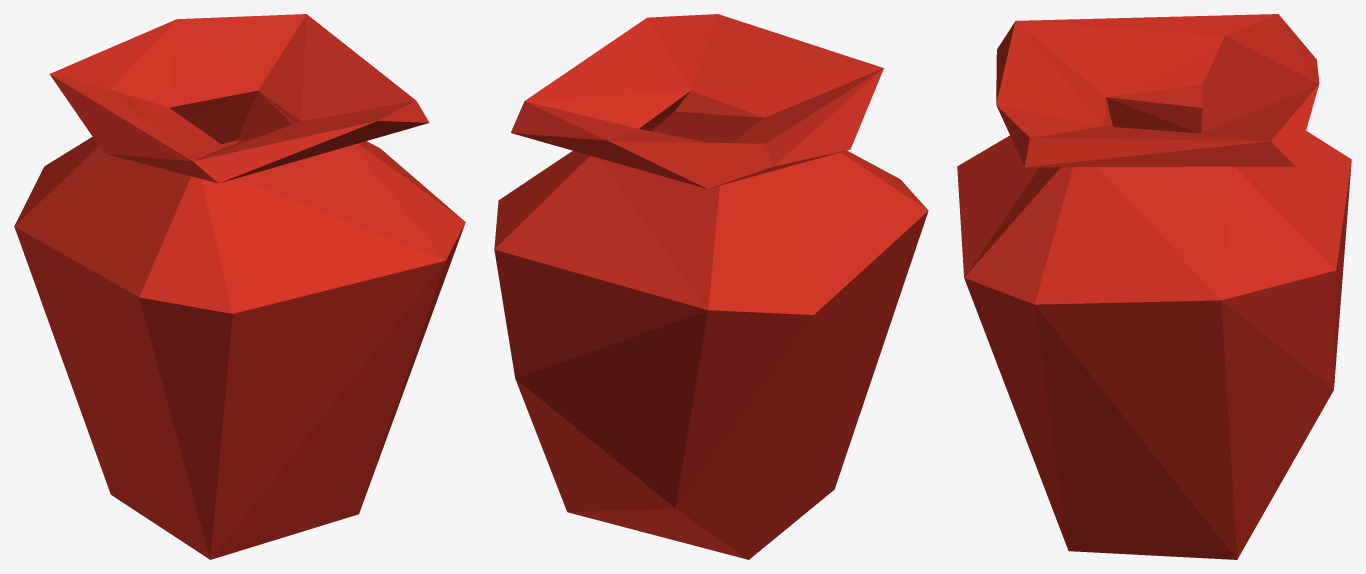
File: VaseRed.fbx
The picture shows the model from 3 angles, left to right: view 1: azimuth 30°, elevation 25°; view 2: azimuth 150°, elevation 25°; view 3: azimuth 270°, elevation 25°; orthographic projection. The views are drawn at different scales.
Parts seen in each view (by area): view 1: Cube.002; view 2: Cube.002; view 3: Cube.002.
Boxes of the visible parts, x1,y1,x2,y2 form: Cube.002: (14, 14, 465, 559); Cube.002: (494, 14, 928, 559); Cube.002: (957, 14, 1351, 559).
Size of the model in its own units: 38.06 by 45.2 by 36.8.
